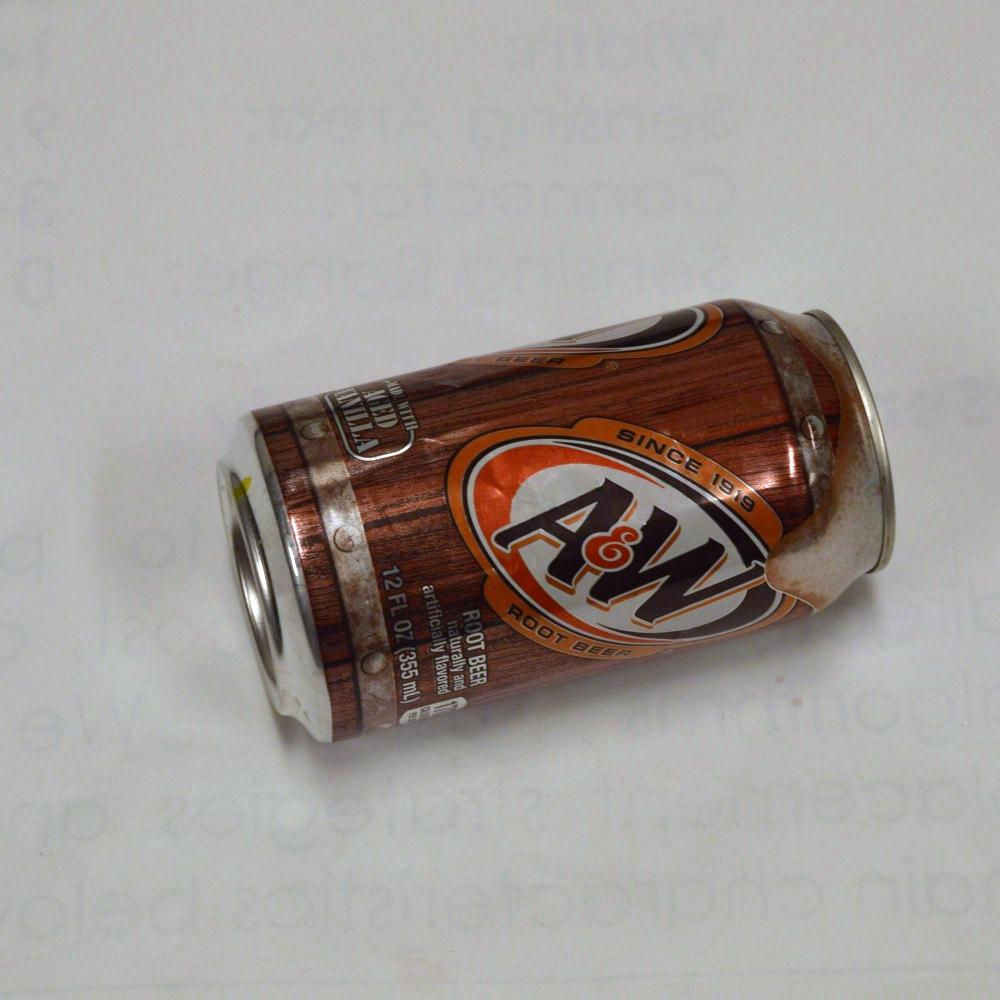Metal: (180, 207, 950, 808)
